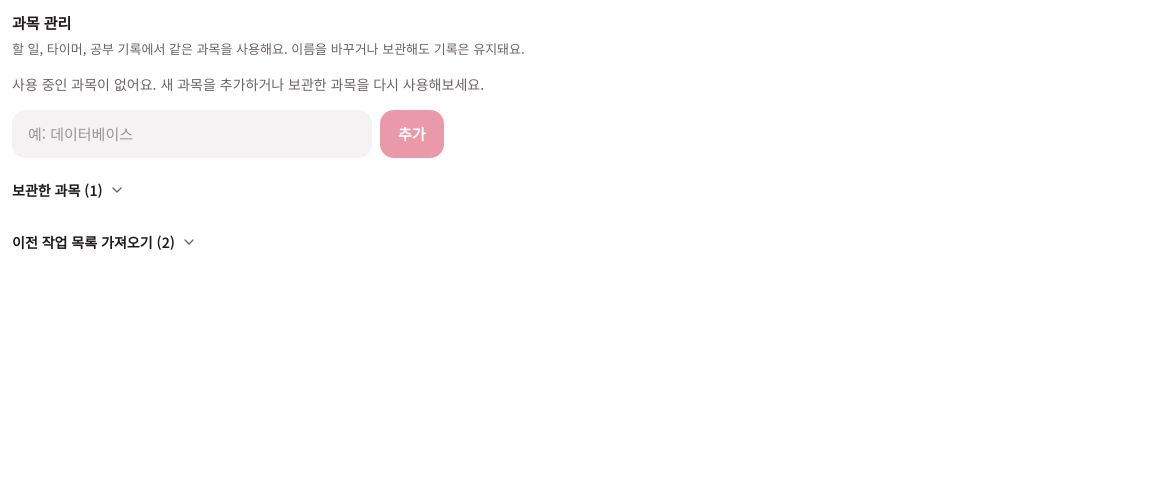
SubjectManager 과목 보관 › keeps an imported name whose archived subject could not be restored
The width and height of the screenshot is (1164, 495).
Click the heading "이전 작업 목록 가져오기 (2)". click: click(104, 242)
box: [12,232,197,252]
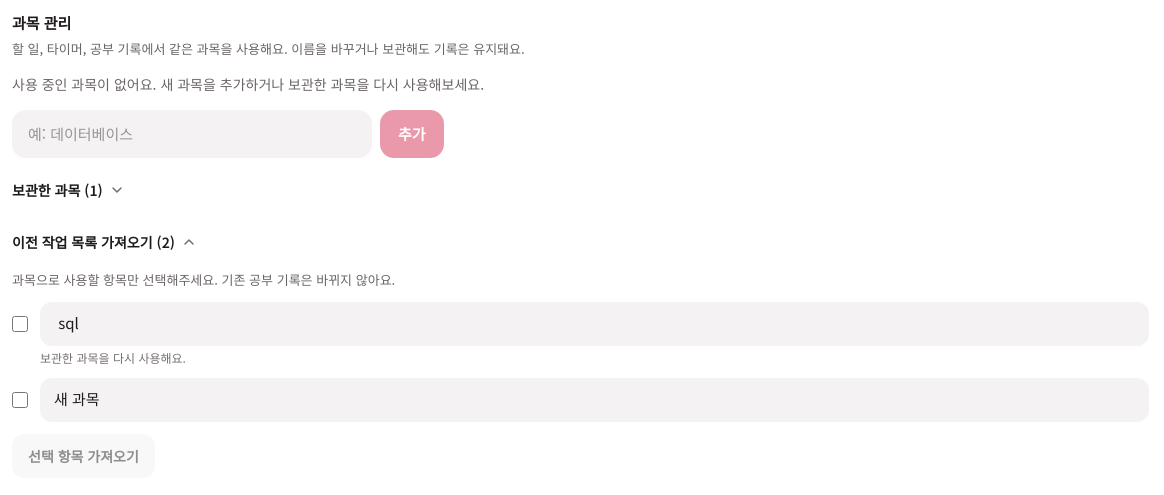
Click the checkbox named "이전 항목 1 선택". click: click(20, 324)
box: [12,316,28,332]
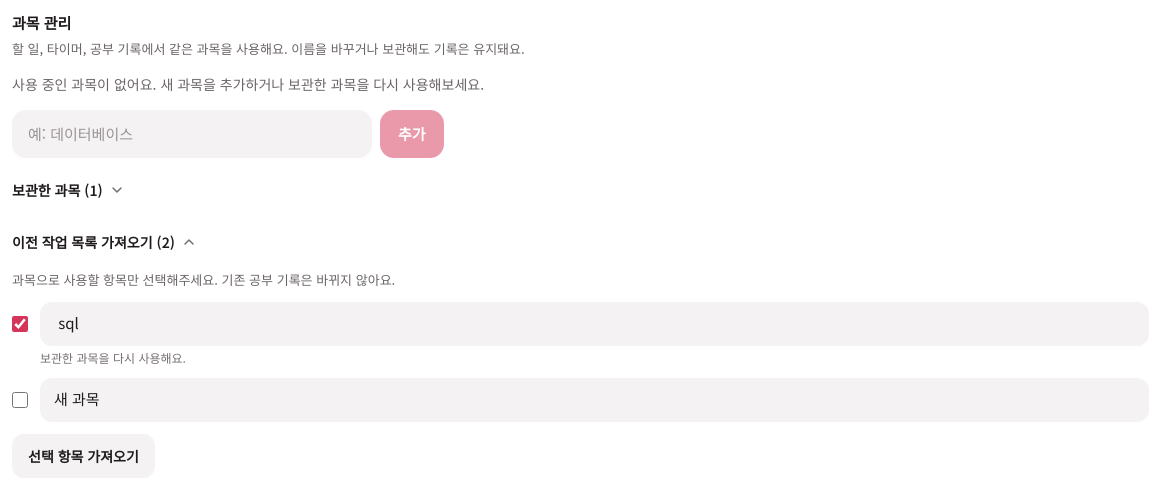
Click the checkbox named "이전 항목 2 선택". click: click(20, 400)
box: [12,392,28,408]
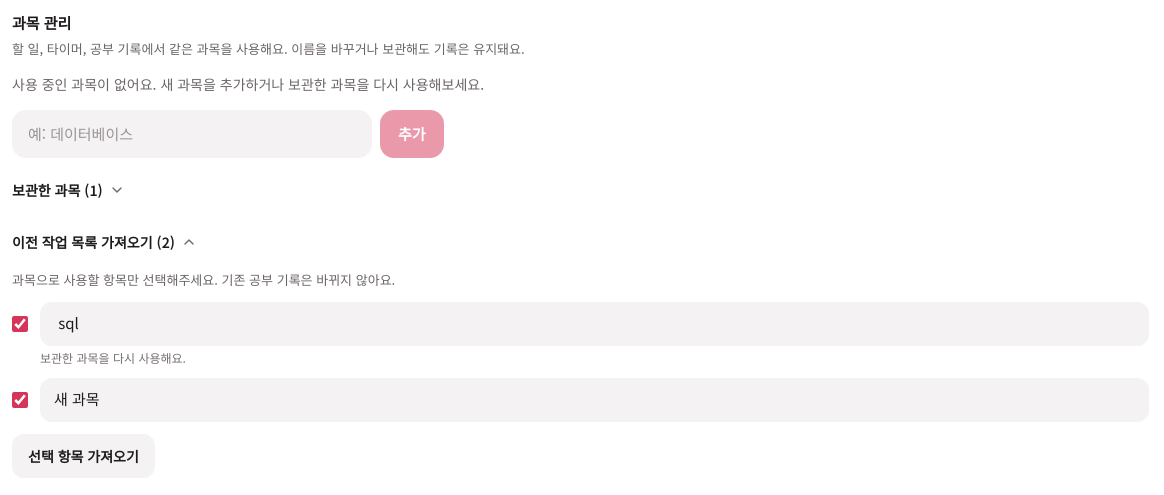
Click the button "선택 항목 가져오기". click: click(83, 456)
box: [12,434,155,478]
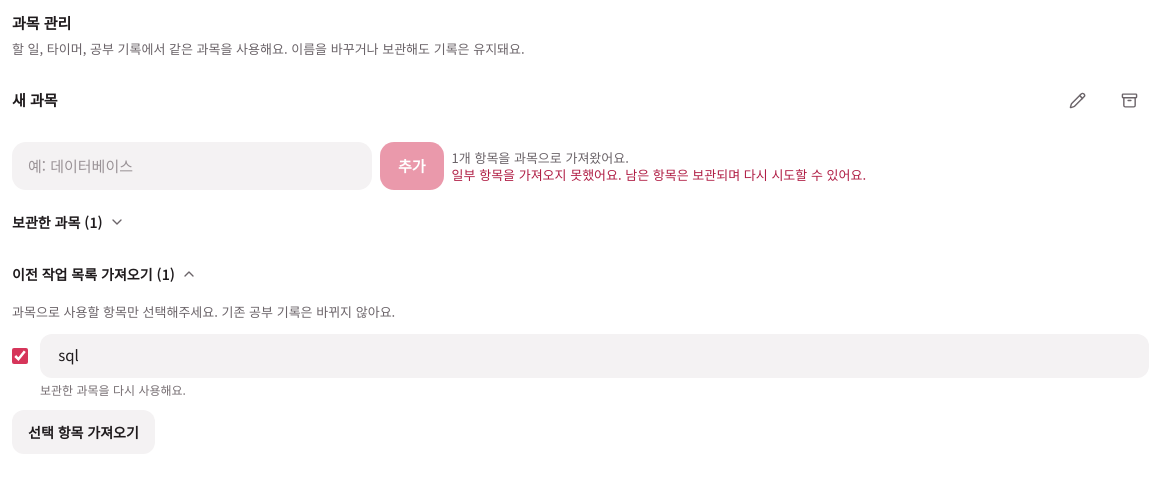
expect the field named "이전 항목 1 과목 이름" holds " sql ": met, box [40,334,1149,378]
expect the message "일부 항목을 가져오지 못했어요. 남은 항목은 보관되며 다시 시도할 수 있어요." is shown: met, box [452,166,866,183]
